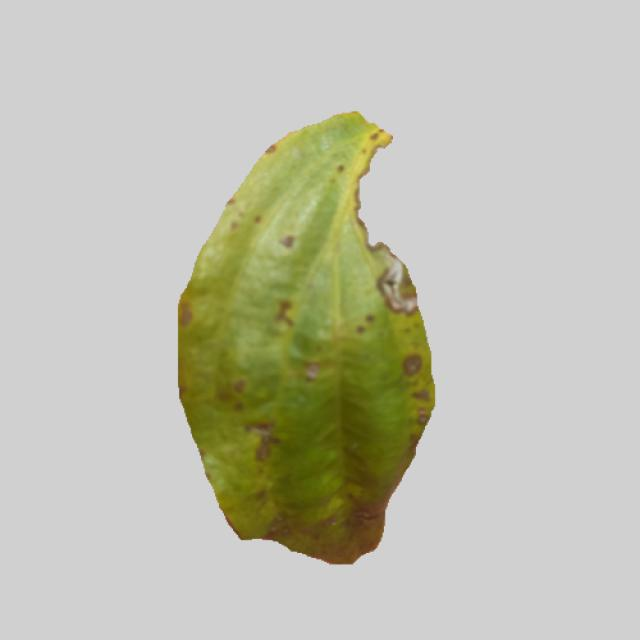yellow-mottle-virus: (146, 109, 443, 562)
